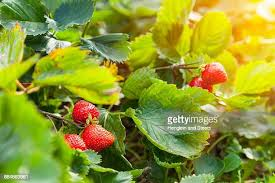ripe: (80, 123, 114, 151), (199, 59, 230, 87), (58, 130, 88, 157), (70, 99, 100, 126), (185, 71, 215, 96)
